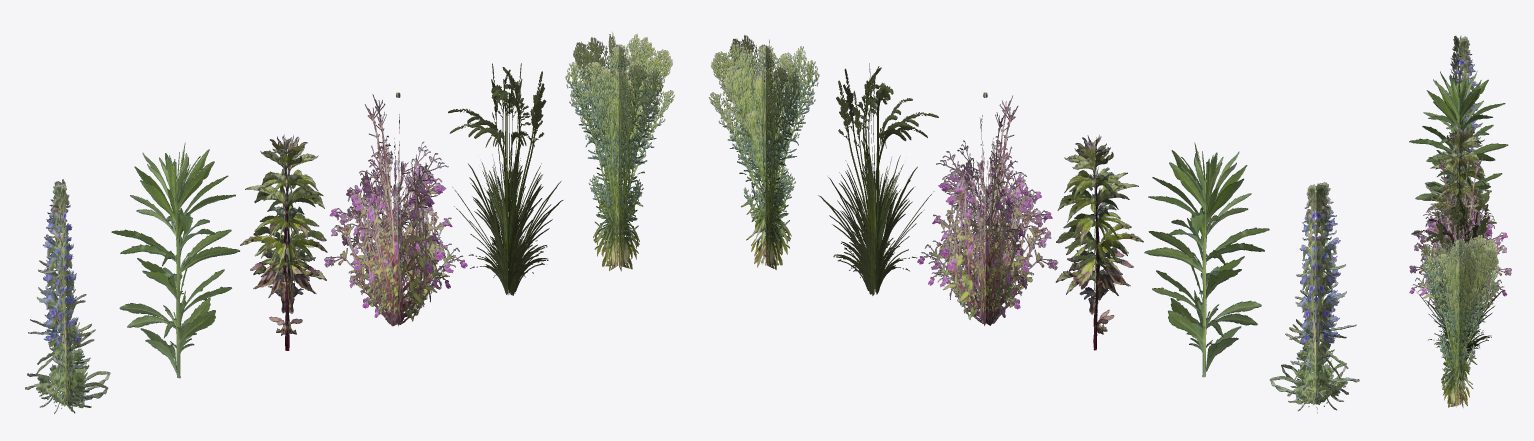
Rendered from low_poly_foliage_pack_01.glb.
3 views of the same model, side by side, from view 1: azimuth 30°, elevation 25°; view 2: azimuth 150°, elevation 25°; view 3: azimuth 270°, elevation 25° (orthographic). The views are drawn at different scales.
Visible parts, largest first — view 1: Material_001-material (×6); view 2: Material_001-material (×6); view 3: Material_001-material (×6).
Boxes of the visible parts, left/top/right/bottom form: Material_001-material (×6): left=25, top=32, right=674, bottom=413; Material_001-material (×6): left=708, top=35, right=1359, bottom=413; Material_001-material (×6): left=1409, top=35, right=1511, bottom=407.
Size of the model in its own units: 2.93 by 1 by 0.627.
1 material, 1 textured.
